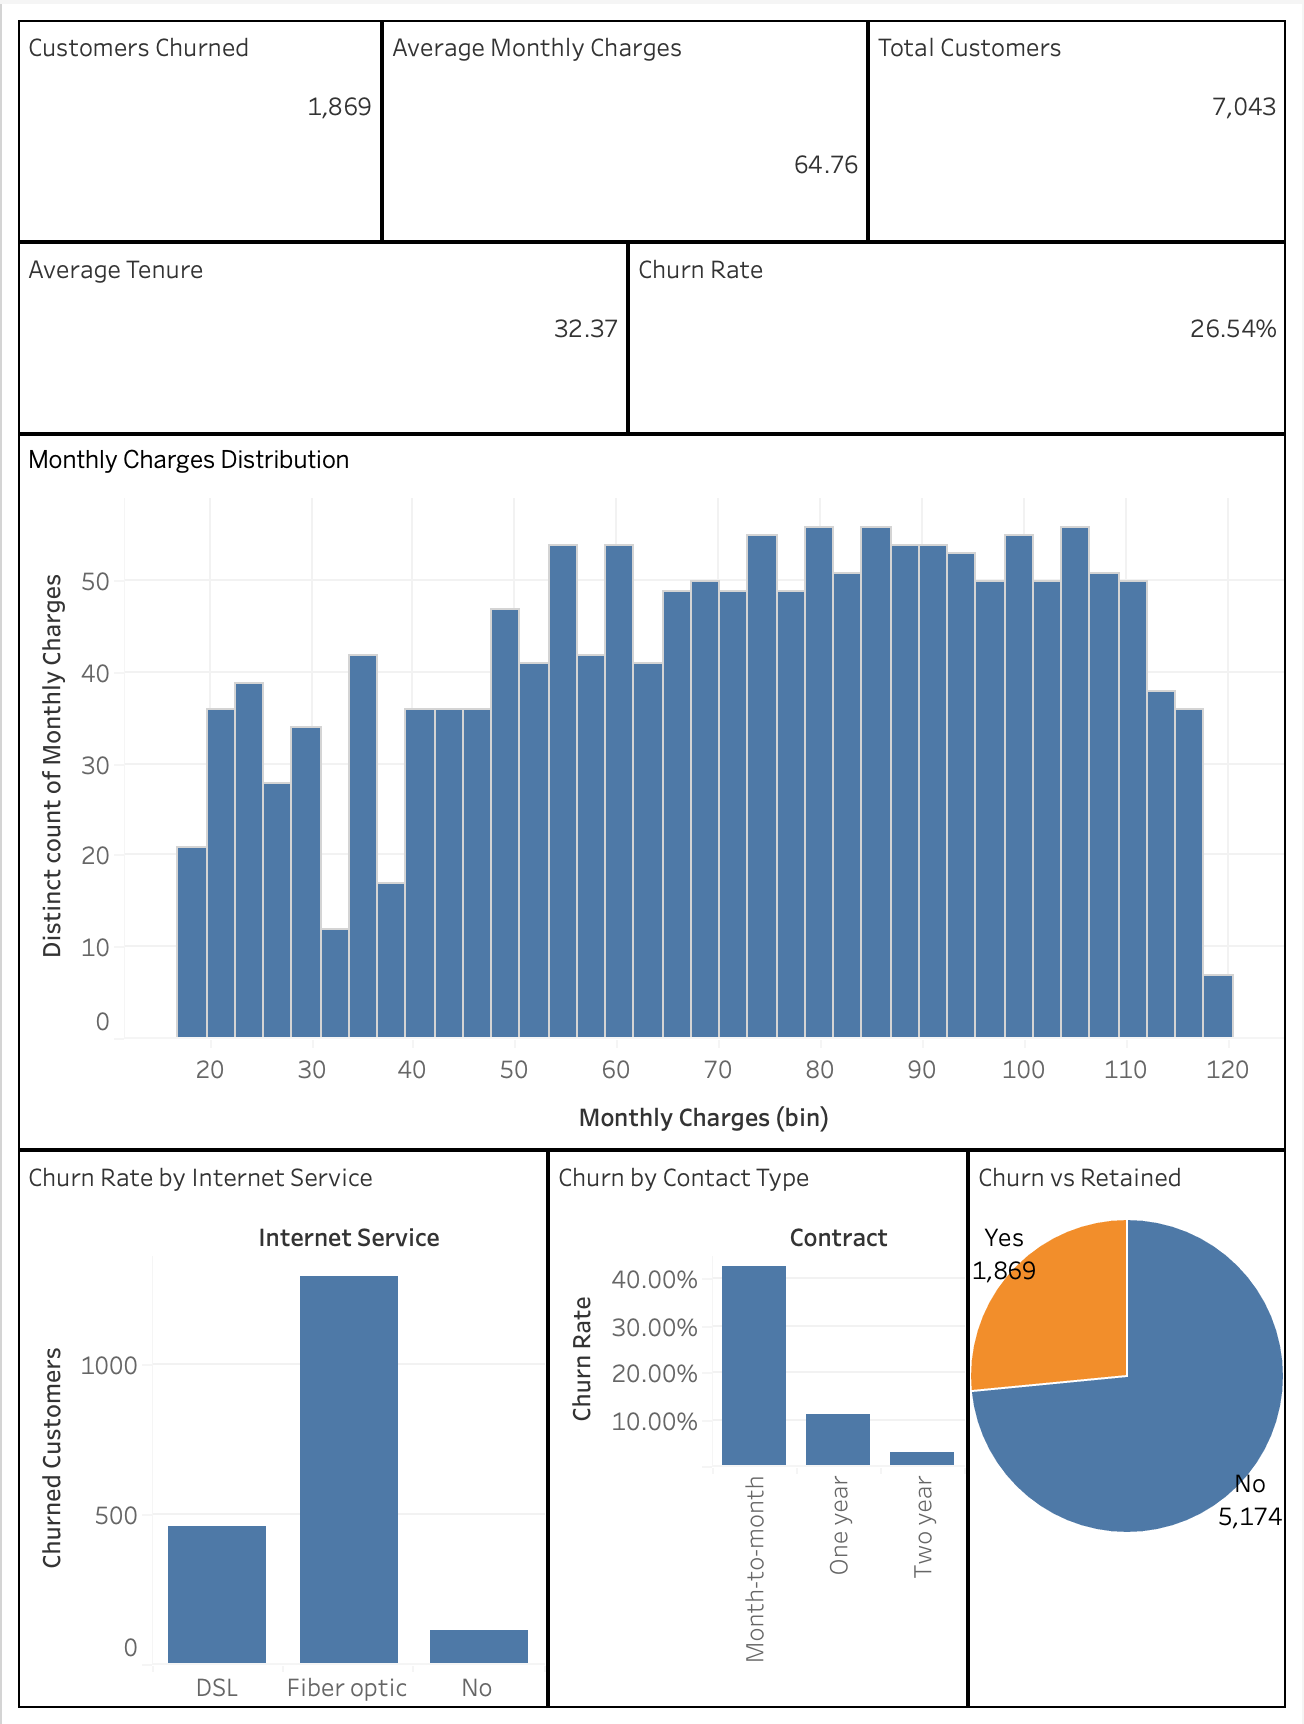

The page's visual inventory and layout, read from the dashboard file:
{"tool":"tableau","page":{"name":"Dashboard 1","canvas":[650,860],"ordinal":0},"visuals":[{"type":"worksheet","title":"Sheet 2","mark":"Automatic","box":[8,8.7,182,110.8]},{"type":"worksheet","title":"Sheet 4","mark":"Automatic","box":[190,8.7,243,110.8]},{"type":"worksheet","title":"Sheet 1","mark":"Automatic","box":[433,8.7,209,110.8]},{"type":"worksheet","title":"Sheet 5","mark":"Automatic","box":[8,119.5,305,95.8]},{"type":"worksheet","title":"Sheet 3","mark":"Automatic","box":[313,119.5,329,95.8]},{"type":"worksheet","title":"Sheet 8","mark":"Automatic","rows":["MonthlyCharges"],"cols":["Monthly Charges (bin)"],"box":[8,215.4,634,357.4]},{"type":"worksheet","title":"Sheet 6","mark":"Automatic","rows":["Calculation_3886606499578146816"],"cols":["InternetService"],"box":[8,572.8,265,278.5]},{"type":"worksheet","title":"Sheet 7","mark":"Automatic","rows":["Calculation1"],"cols":["Contract"],"box":[273,572.8,210.5,278.5]},{"type":"worksheet","title":"Churn vs retained","mark":"Pie","box":[483.5,572.8,158.5,278.5]}]}

Visuals, with their boxes in screenshot pixels (x1, y1, x2, y2), scaled from the page's 650x860 canvas onto the 1304x1724 screenshot:
"Sheet 2" worksheet: l=16, t=17, r=381, b=240
"Sheet 4" worksheet: l=381, t=17, r=869, b=240
"Sheet 1" worksheet: l=869, t=17, r=1288, b=240
"Sheet 5" worksheet: l=16, t=240, r=628, b=432
"Sheet 3" worksheet: l=628, t=240, r=1288, b=432
"Sheet 8" worksheet: l=16, t=432, r=1288, b=1148
"Sheet 6" worksheet: l=16, t=1148, r=548, b=1707
"Sheet 7" worksheet: l=548, t=1148, r=970, b=1707
"Churn vs retained" worksheet (Pie marks): l=970, t=1148, r=1288, b=1707
